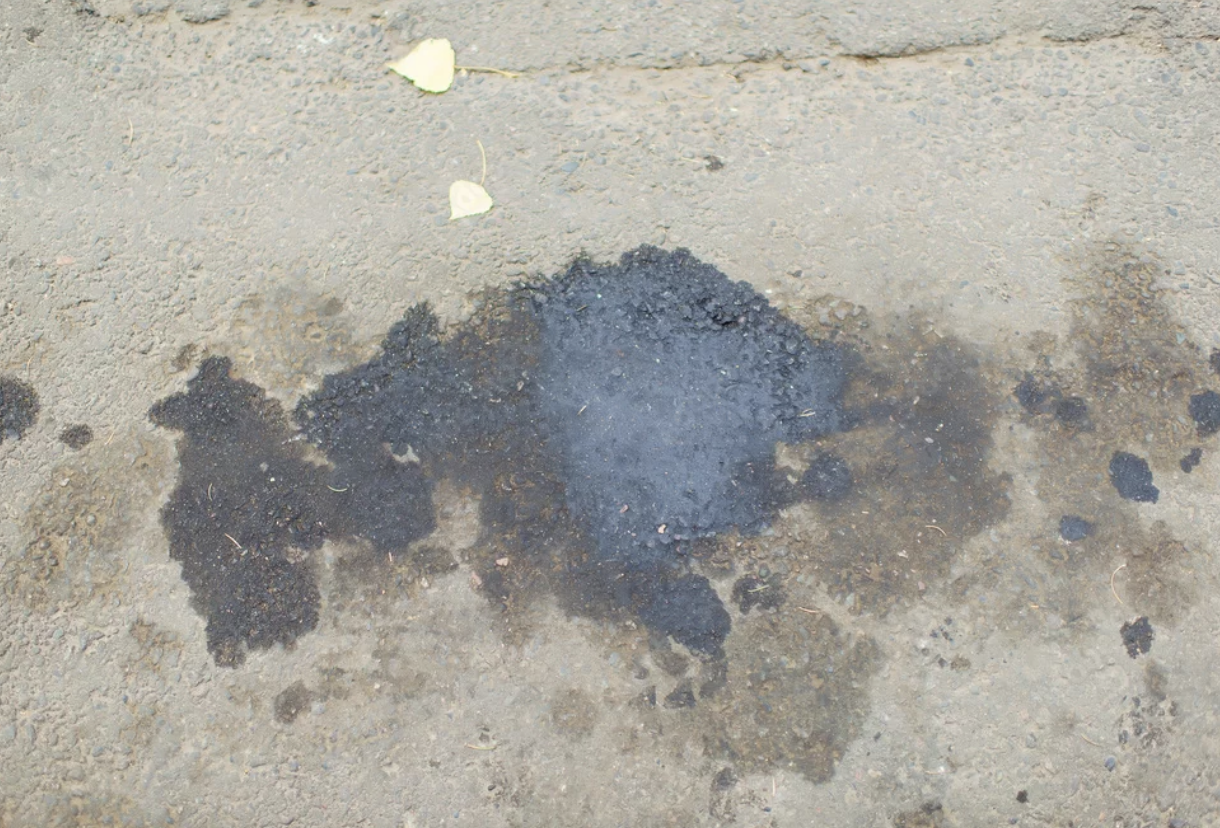oil: (75, 122, 457, 339)
